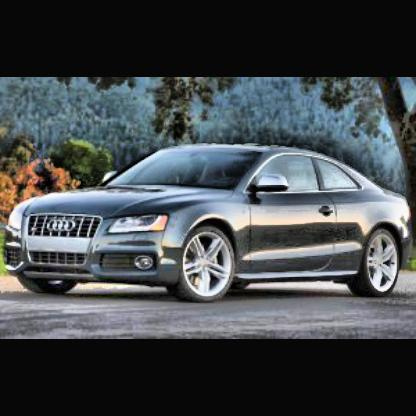Audi S5 Coupe 2012: (10, 142, 413, 307)
